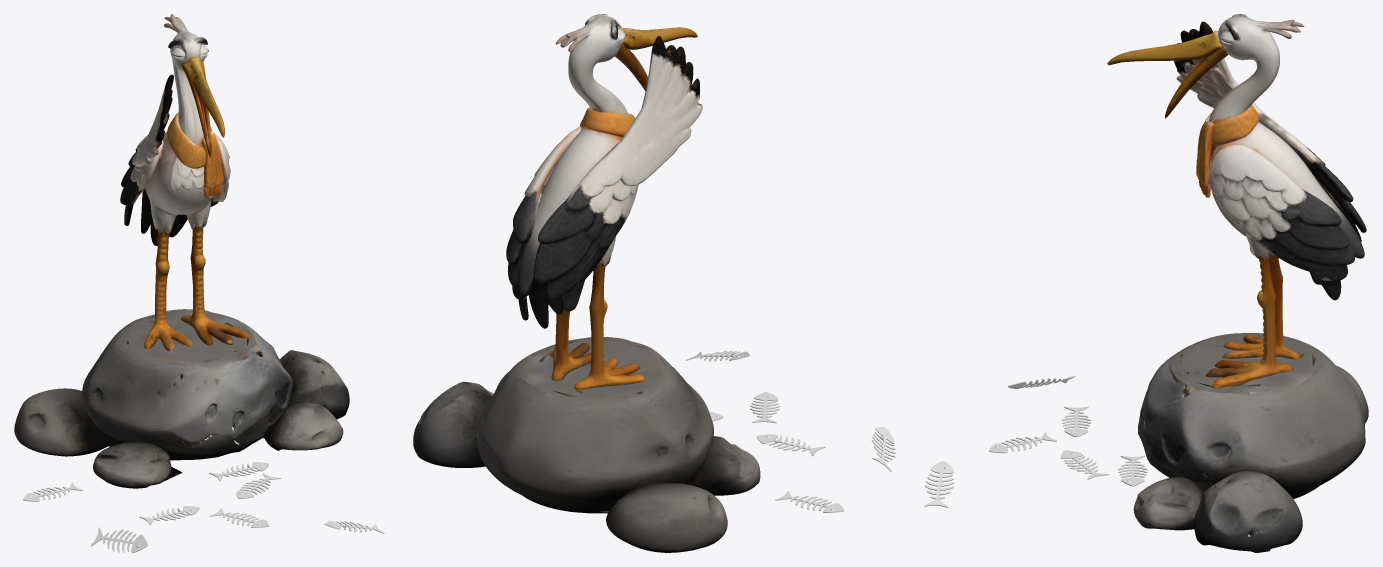
3 views of the same model, side by side, from view 1: azimuth 30°, elevation 25°; view 2: azimuth 150°, elevation 25°; view 3: azimuth 270°, elevation 25° (orthographic). The views are drawn at different scales.
Parts seen in each view (by area): view 1: hormat2; view 2: hormat2; view 3: hormat2.
Boxes of the visible parts, x1,y1,x2,y2 form: hormat2: [14, 14, 384, 552]; hormat2: [413, 14, 895, 552]; hormat2: [924, 14, 1368, 552].
Bounding box in the file's own units: 0.8333 × 0.9528 × 0.8285.
Materials: 2 (1 with a texture image).
